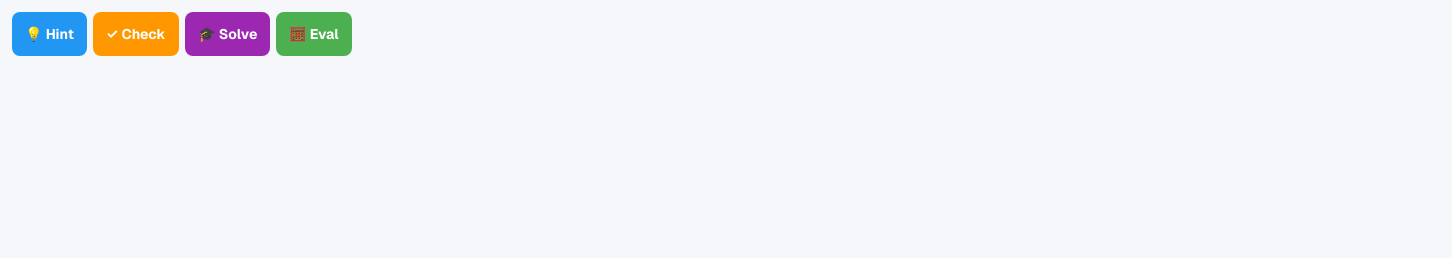
Test case: MathTutorTool: a cloud refusal › allowance used: says it renews next month
Click the button with test id "math-tutor-hint". click: x=49, y=34
box: top-left (12, 12), bottom-right (87, 56)
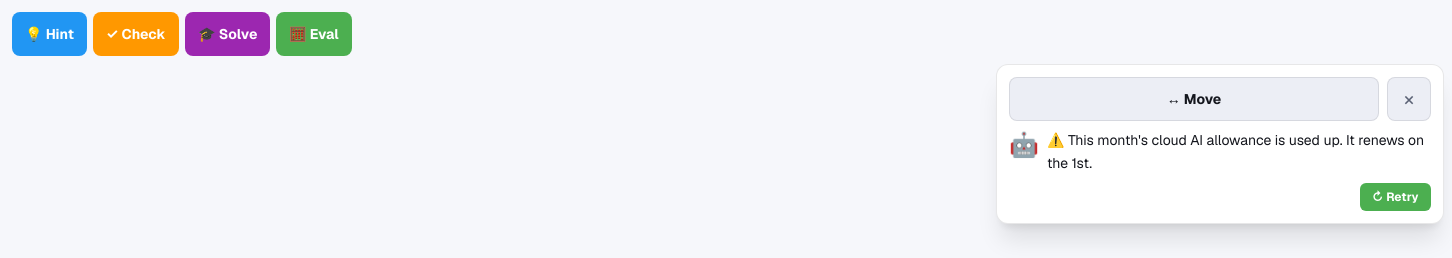
Now the text "allowance is used up" is shown, box top-left (1047, 131), bottom-right (1424, 172)
